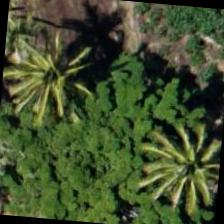Kelapa_Sawit: (8, 30, 106, 128), (139, 115, 223, 212)
